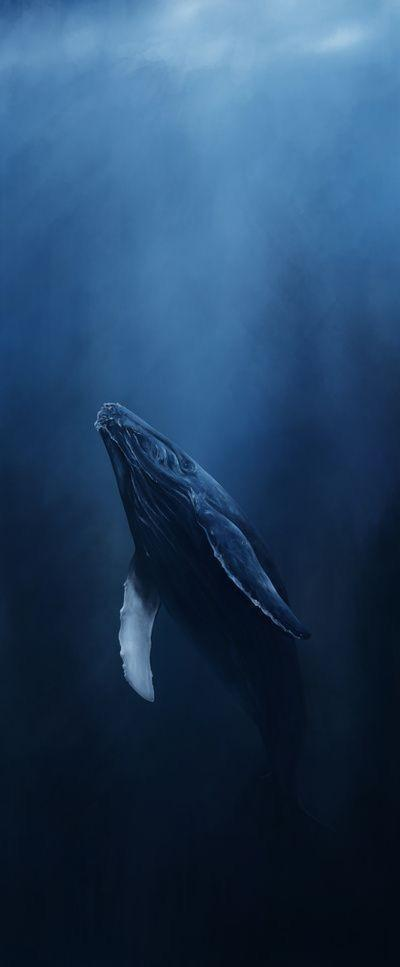fish: (84, 388, 366, 858)
